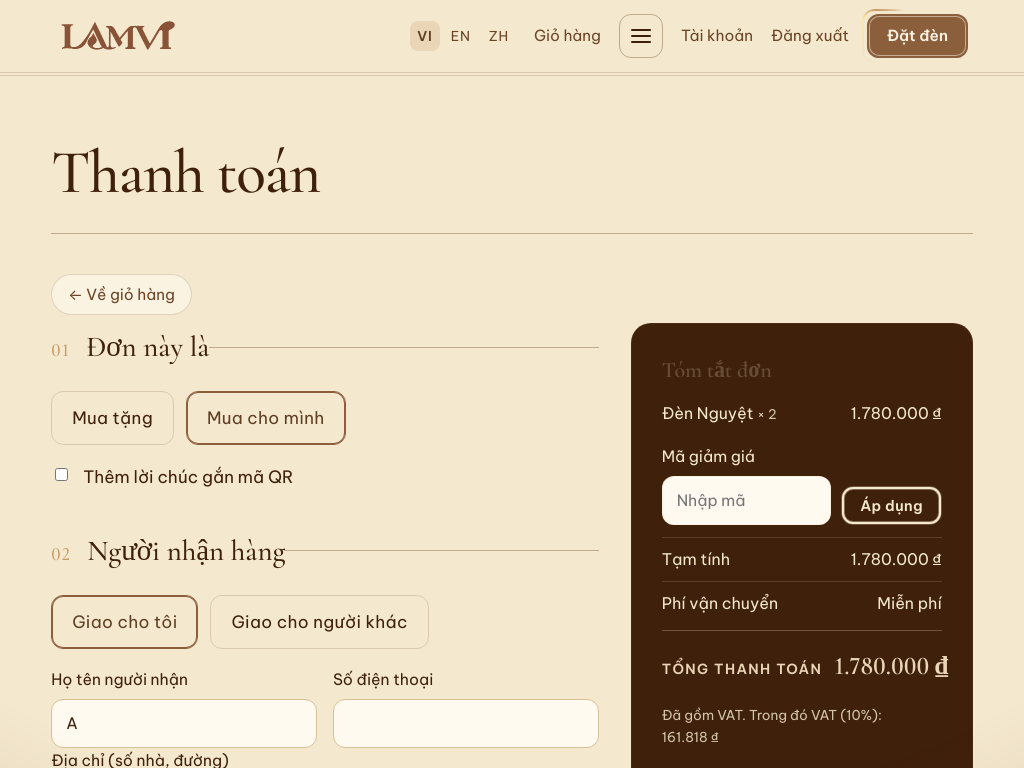
Scenario: Mã giảm giá (FR-CHK-006) › áp mã hợp lệ → hiện mã đã áp và số tiền giảm
Expected: the heading "Tóm tắt đơn" is shown, left=662, top=357, right=771, bottom=383
In the field labelled "Mã giảm giá": {"x": 746, "y": 501} left=662, top=476, right=831, bottom=526, type "tet2026"
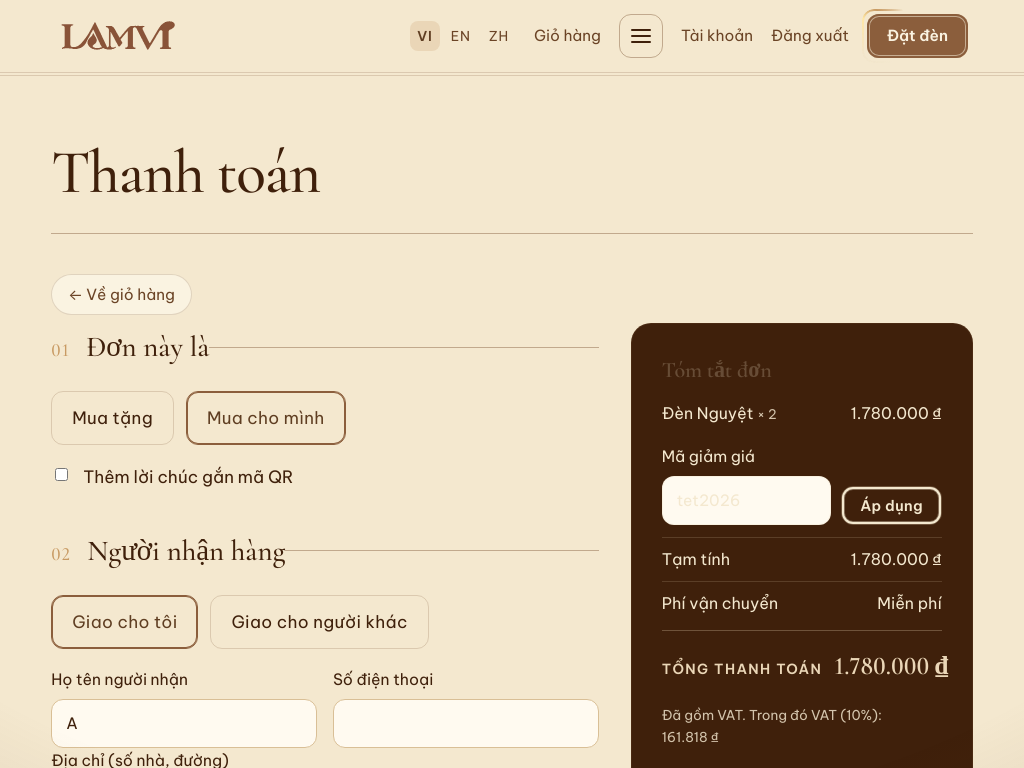
Click the button "Áp dụng": {"x": 891, "y": 506} left=841, top=486, right=942, bottom=525
(page scrolled)
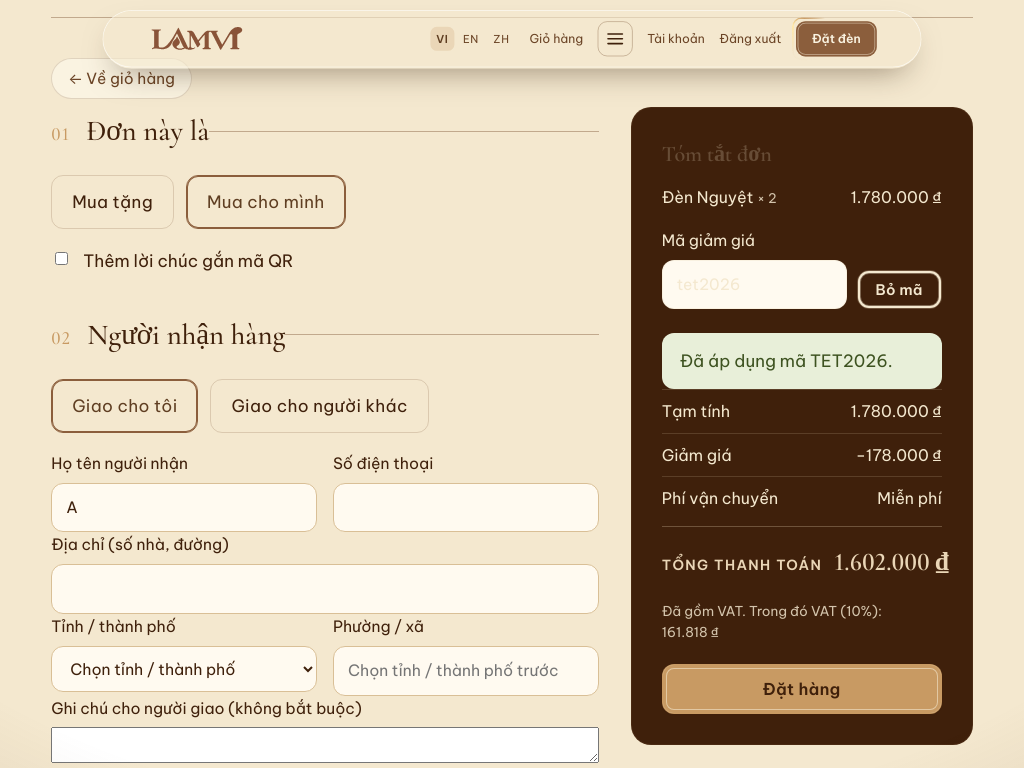
Expected: the text "Đã áp dụng mã TET2026." is shown, left=662, top=333, right=942, bottom=389
Expected: the element with class "order-summary" shows "178.000", left=866, top=445, right=942, bottom=465
